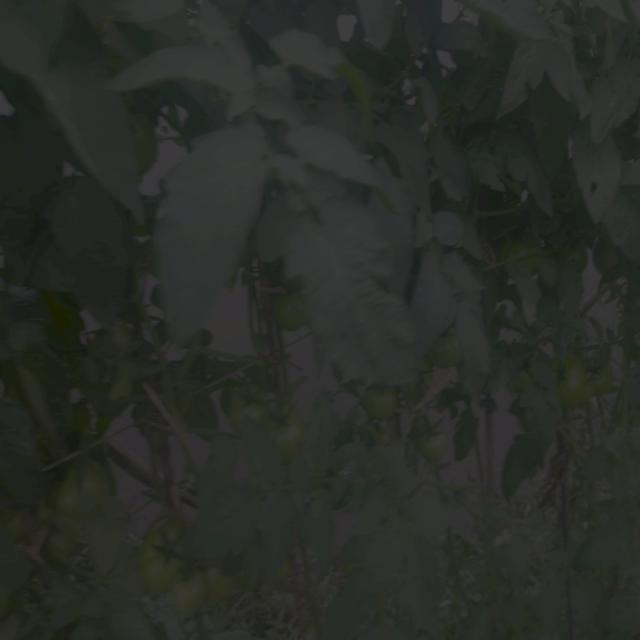tomato: (149, 521, 295, 603), (47, 454, 120, 518), (111, 114, 170, 187), (222, 380, 270, 426), (273, 287, 309, 341), (274, 410, 309, 464), (553, 356, 587, 410), (88, 320, 133, 360), (503, 239, 542, 283), (365, 380, 399, 429), (430, 332, 466, 376), (419, 424, 457, 461), (2, 511, 36, 552), (562, 238, 592, 279), (511, 359, 541, 399), (49, 532, 83, 567), (598, 239, 623, 284), (409, 375, 433, 410)
